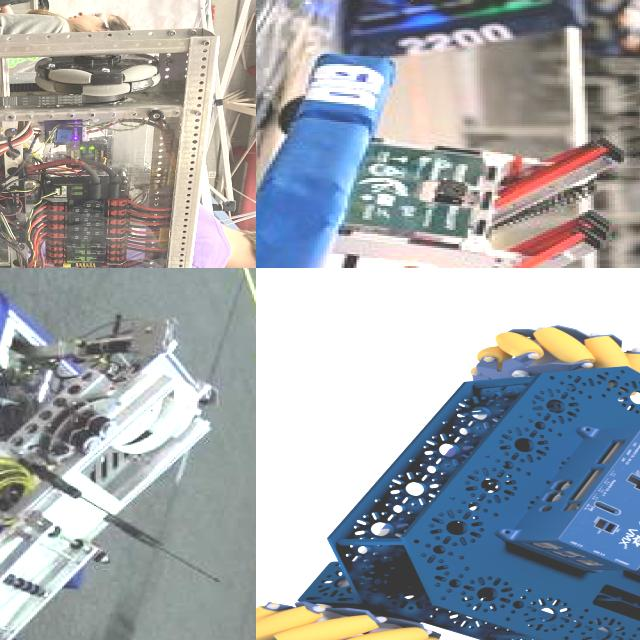FRC-Robots: (256, 268, 640, 640), (0, 268, 256, 640), (256, 100, 629, 268), (0, 0, 206, 268)
